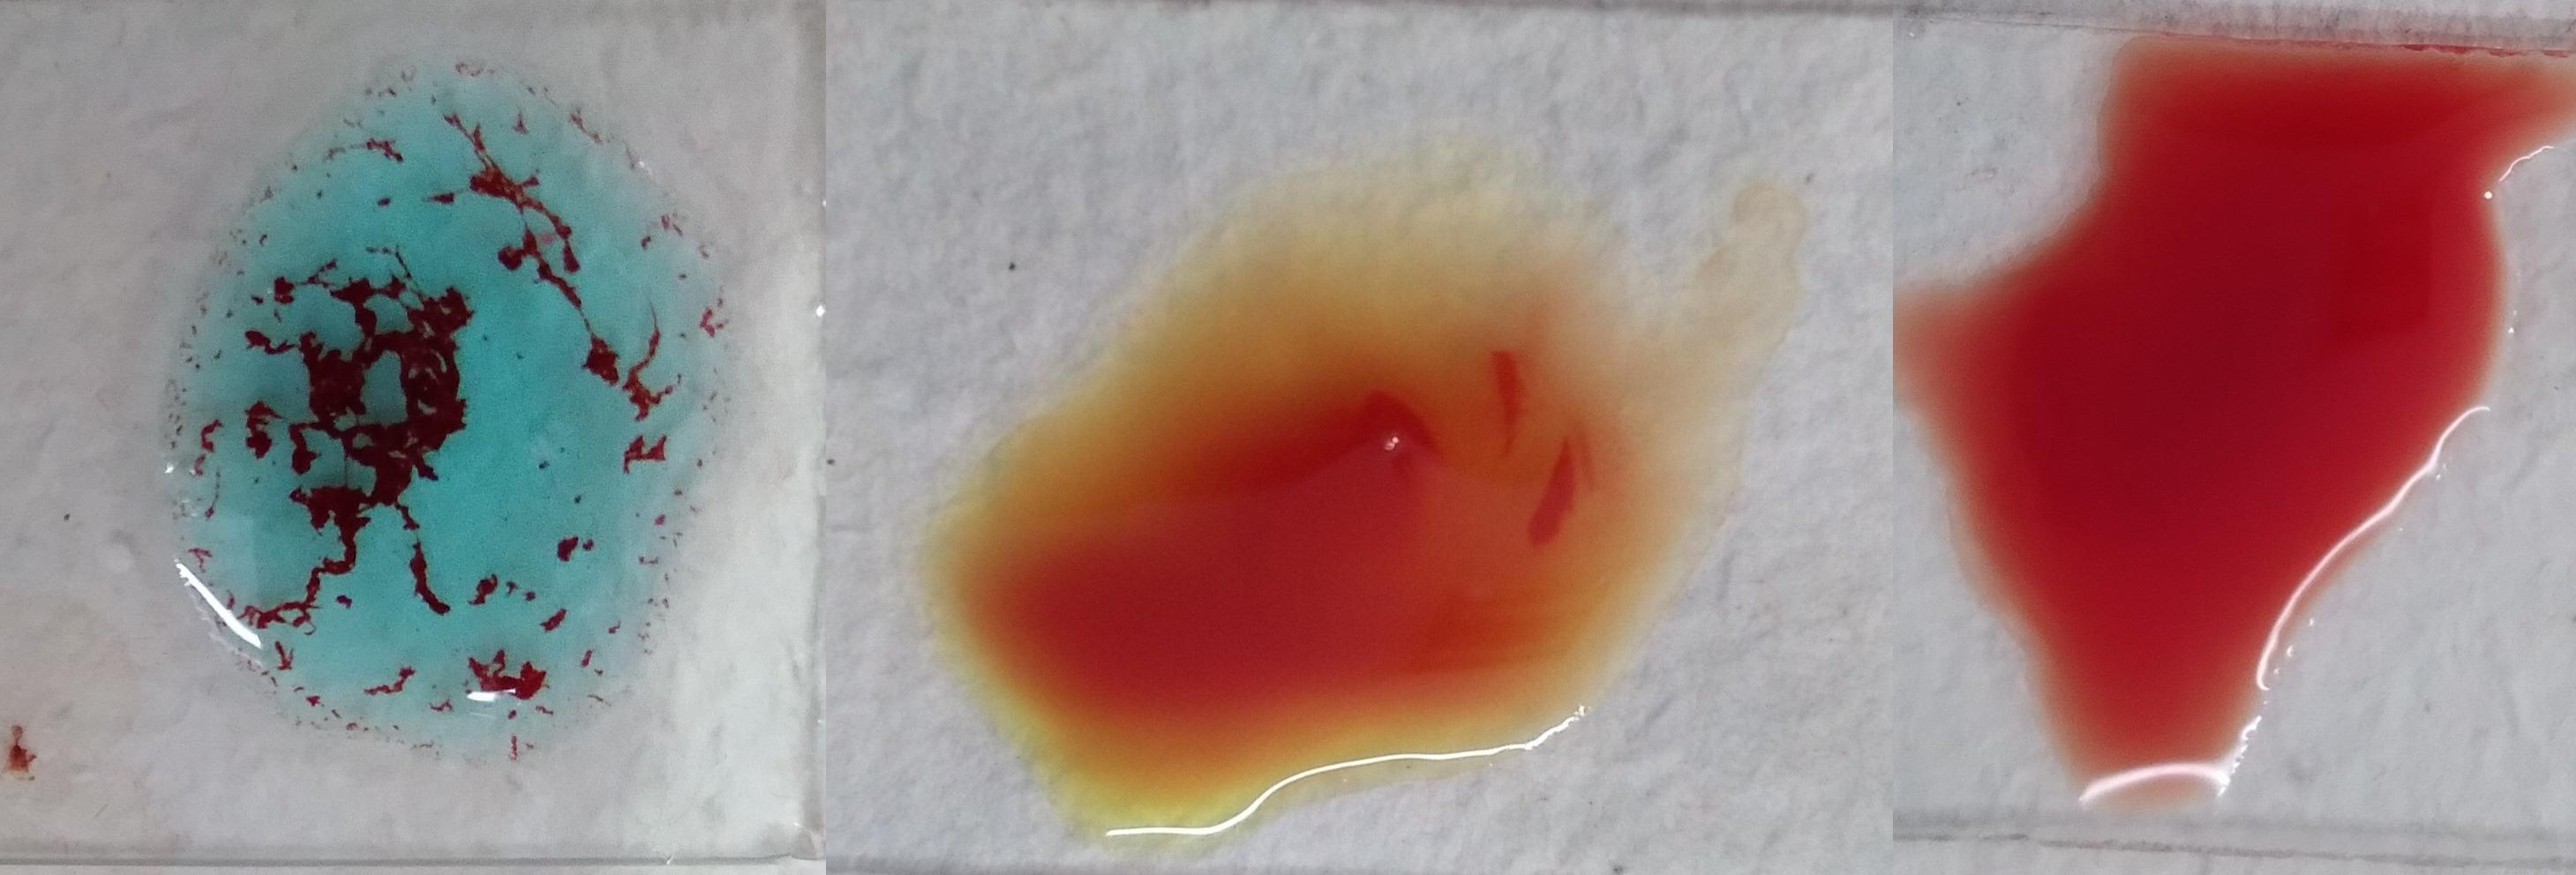A: (122, 71, 734, 796)
